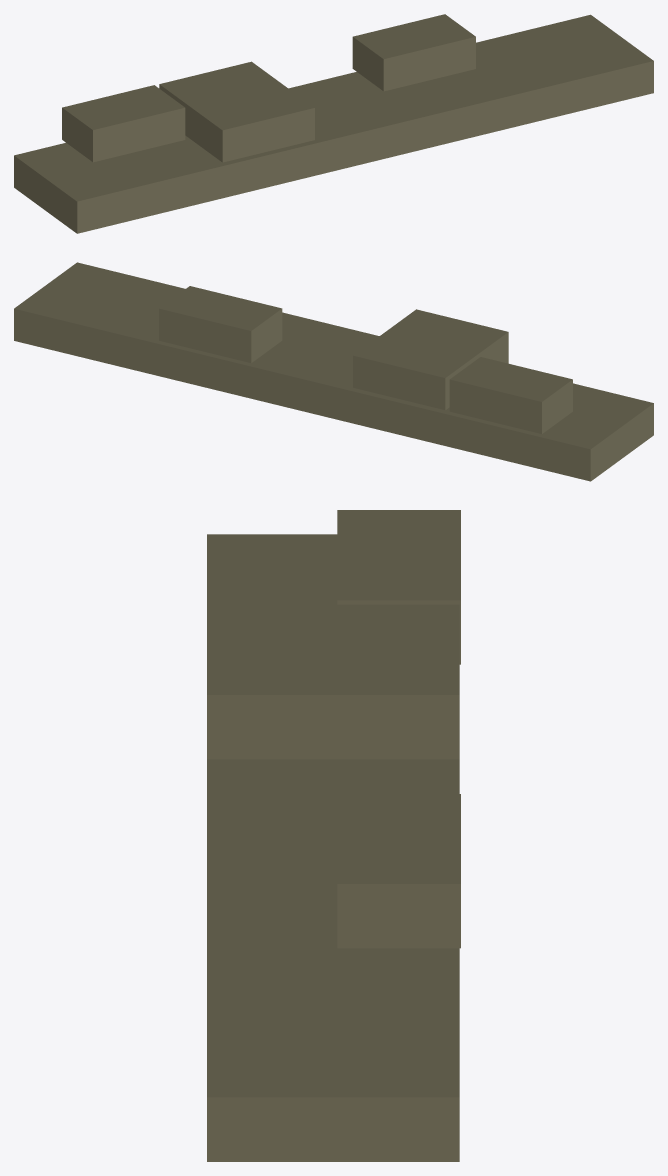
Rendered from SM_PretilTramo_v0_Recto_e2_MuyDanado_LOD1.fbx.
3 views of the same model, one above another, from view 1: azimuth 30°, elevation 25°; view 2: azimuth 150°, elevation 25°; view 3: azimuth 270°, elevation 25° (orthographic). The views are drawn at different scales.
Visible parts, largest first — view 1: SM_pretil_azotea_v2_LOD1; view 2: SM_pretil_azotea_v2_LOD1; view 3: SM_pretil_azotea_v2_LOD1.
Part boxes in pixels (x1,y1,x2,y2): SM_pretil_azotea_v2_LOD1: (14, 14, 653, 233); SM_pretil_azotea_v2_LOD1: (14, 262, 653, 481); SM_pretil_azotea_v2_LOD1: (207, 510, 460, 1161).
Size of the model in its own units: 5.06 by 0.57 by 0.965.
